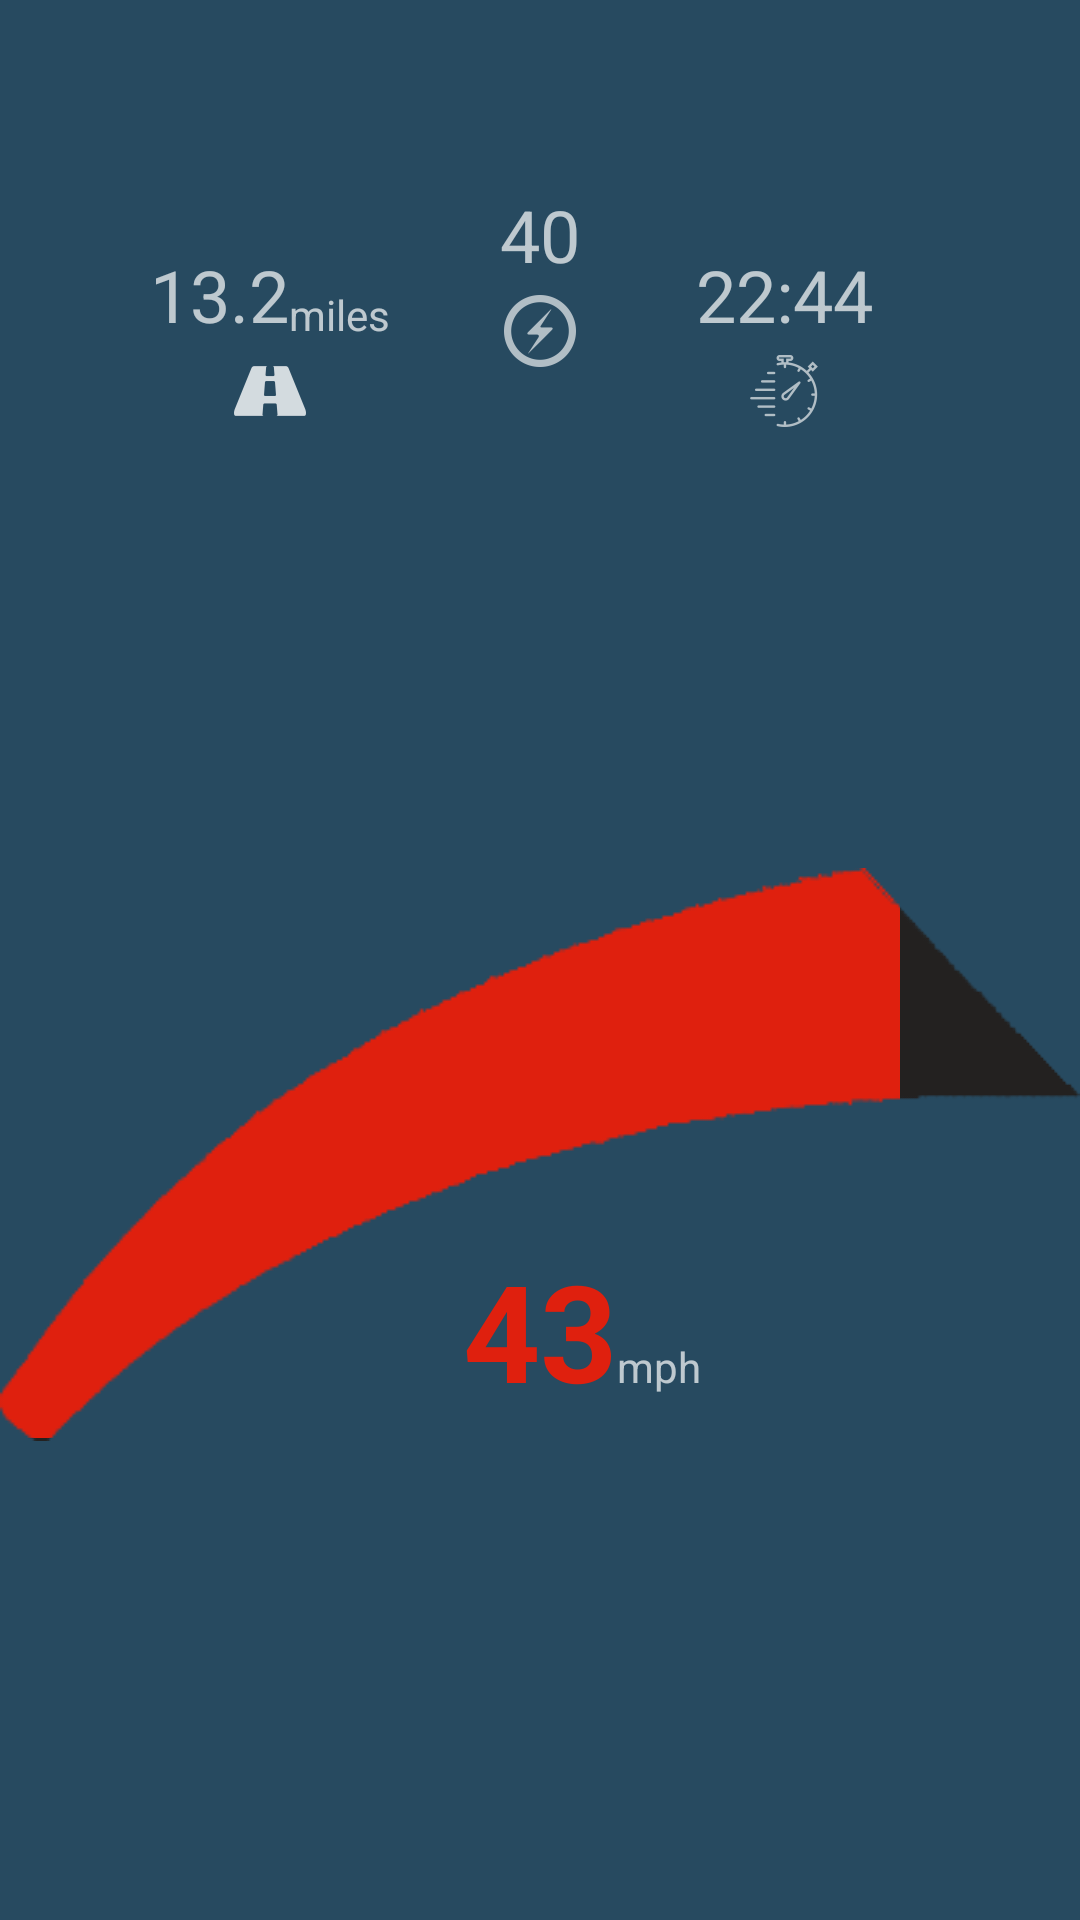

Named icons in this screenshot (1080×1920) and their bounding boxes, (x1, y1, x2, y2):
road: (234, 366, 306, 416)
time: (750, 355, 818, 427)
